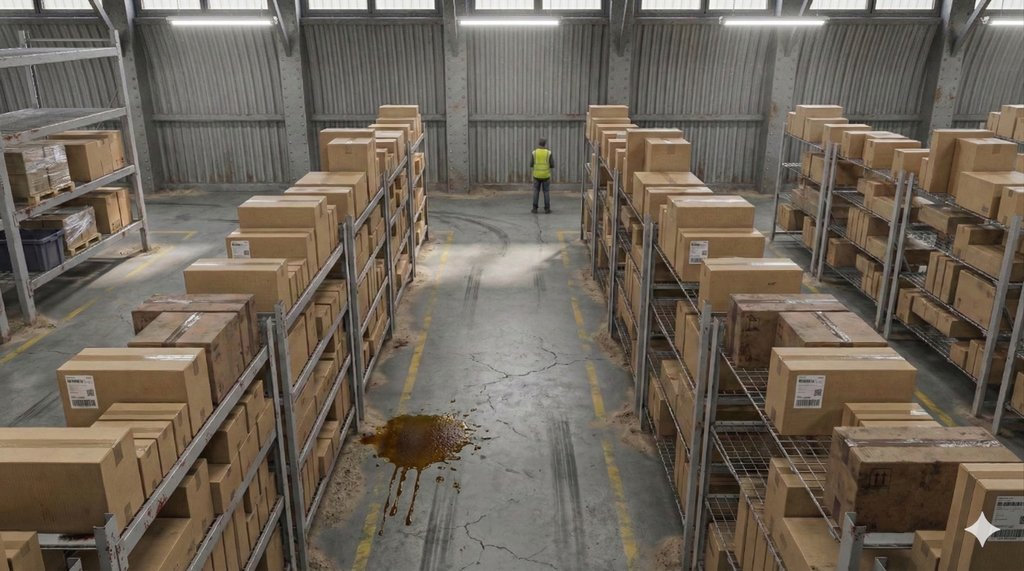empty_shelf: (4, 3, 143, 128)
person: (495, 109, 577, 241)
safety_vest: (519, 145, 556, 183)
spill: (337, 381, 527, 518)
